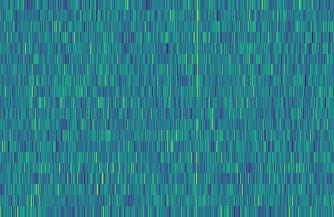signal: (192, 0, 202, 217)
